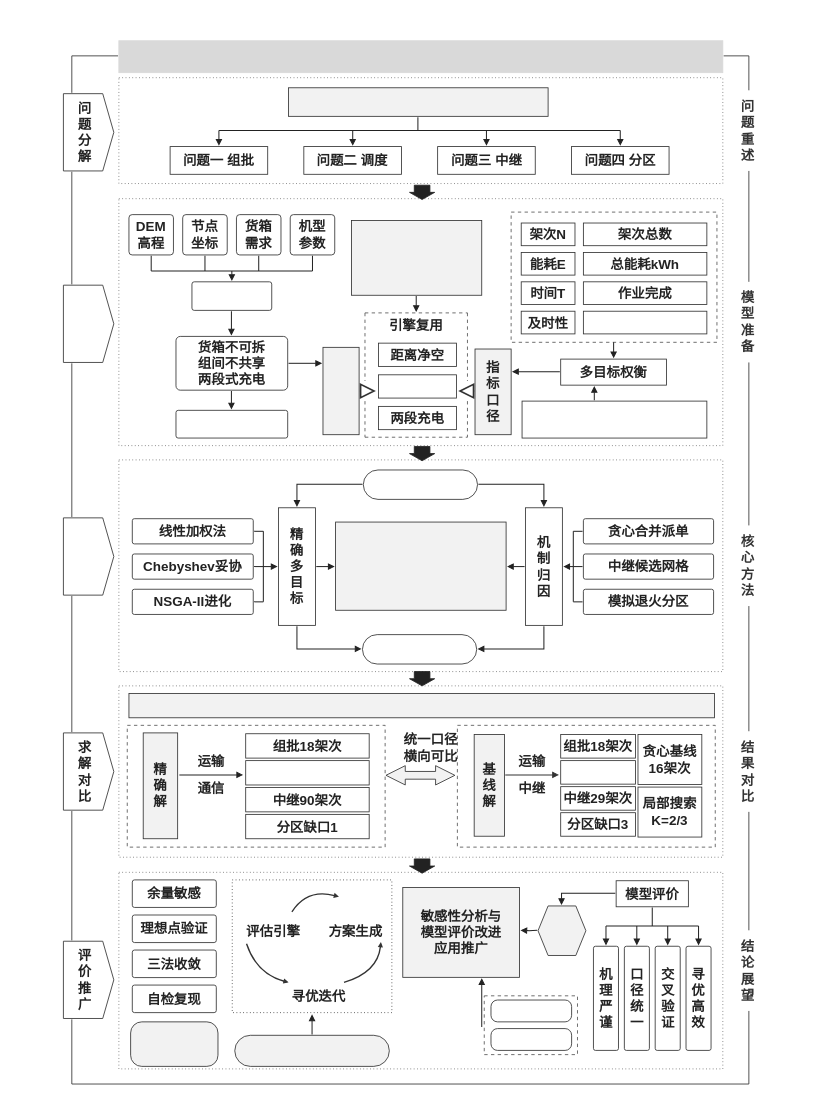
Some shapes in this 830 by 1117 pixel diagram are drawn without their labels. Here are the shapes that lost their labels. From the top down, the centre of each, then its label:
point 420,56: 山区洪涝灾害下无人机运输与通信协同优化研究技术路线
point 418,101: 无人机运输与通信协同的多目标优化
point 416,257: 核心：能耗时间引擎 Lg(q) 航程包络 E_hor+E_up 能耗 q_max 数值求根
point 231,295: 数据整备
point 88,323: 数 据 假 设
point 645,322: 加权迟到
point 340,390: 能 耗 建 模
point 417,386: 载荷能耗
point 231,424: 符号口径
point 614,419: 15 服务区 80 货箱 3 机型
point 420,484: 多目标寻优视角
point 88,556: 建 模 寻 优
point 420,565: 多目标组批与多站 调度与通信中继与 任务分区递进式 建模求解
point 419,649: 构造式基线视角
point 421,705: 各问求解结果与统一口径下的模型交叉对比
point 307,772: 调度29架次
point 597,772: 调度16架次
point 561,930: 改进 方向
point 531,1010: 应急物流
point 174,1043: 精确解法 交叉校验
point 311,1050: 随机种子复算
point 531,1039: 跨域移植
